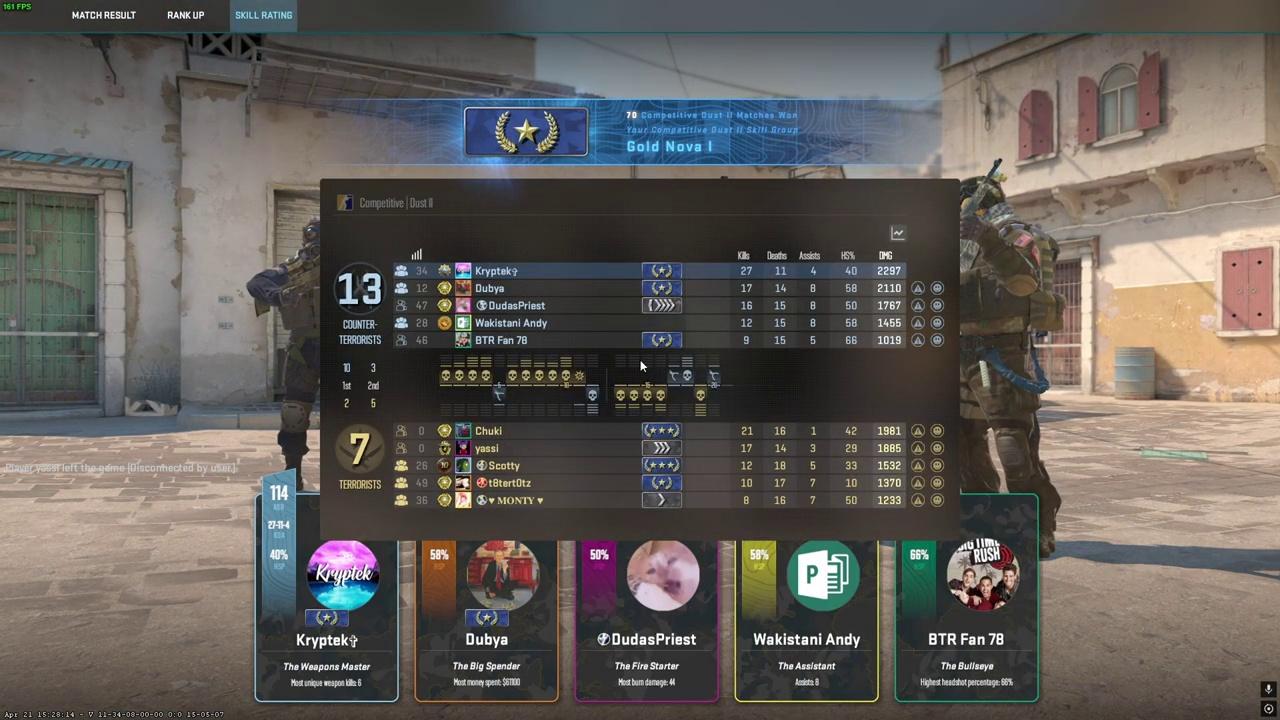CT: (957, 176, 1064, 559), (266, 215, 322, 488)
